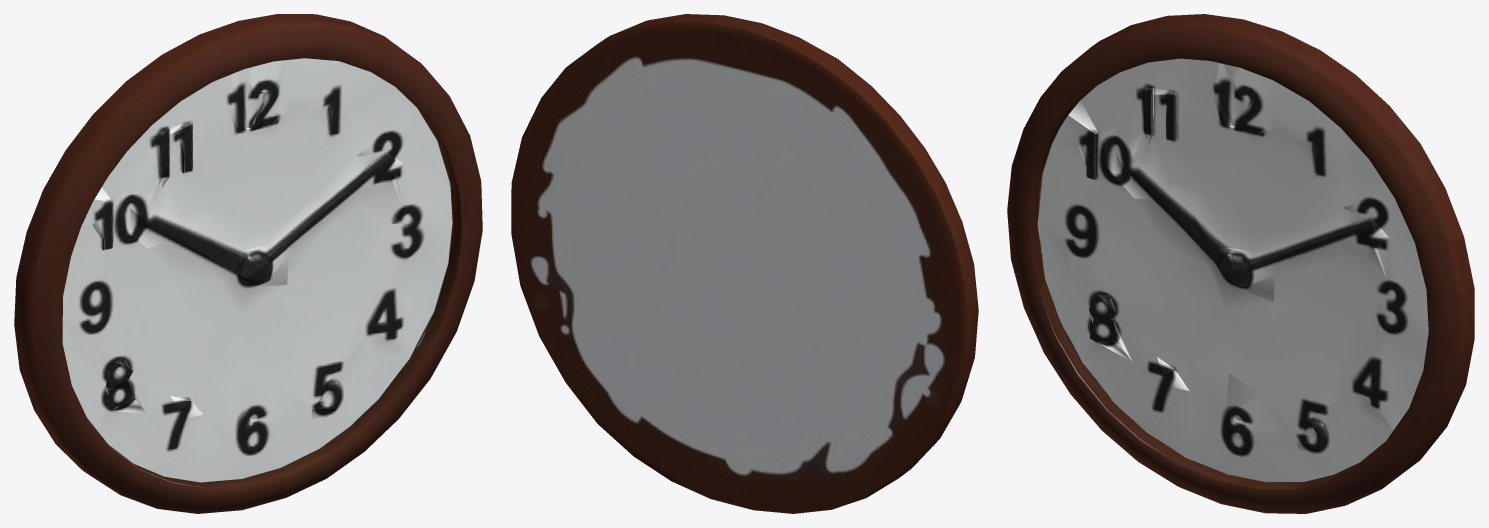
The model's file is w3hclock.glb.
The picture shows the model from 3 angles, left to right: view 1: azimuth 30°, elevation 25°; view 2: azimuth 150°, elevation 25°; view 3: azimuth 330°, elevation 25°; orthographic projection.
Parts seen in each view (by area): view 1: Mesh0; view 2: Mesh0; view 3: Mesh0.
Boxes of the visible parts, box(x1,y1,x2,y2) form: Mesh0: box(14, 14, 482, 513); Mesh0: box(511, 14, 978, 513); Mesh0: box(1007, 14, 1474, 513).
Size of the model in its own units: 0.33 by 0.3301 by 0.0256.
1 material, 1 textured.
